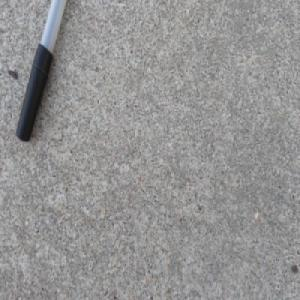Pen: (14, 1, 69, 145)
